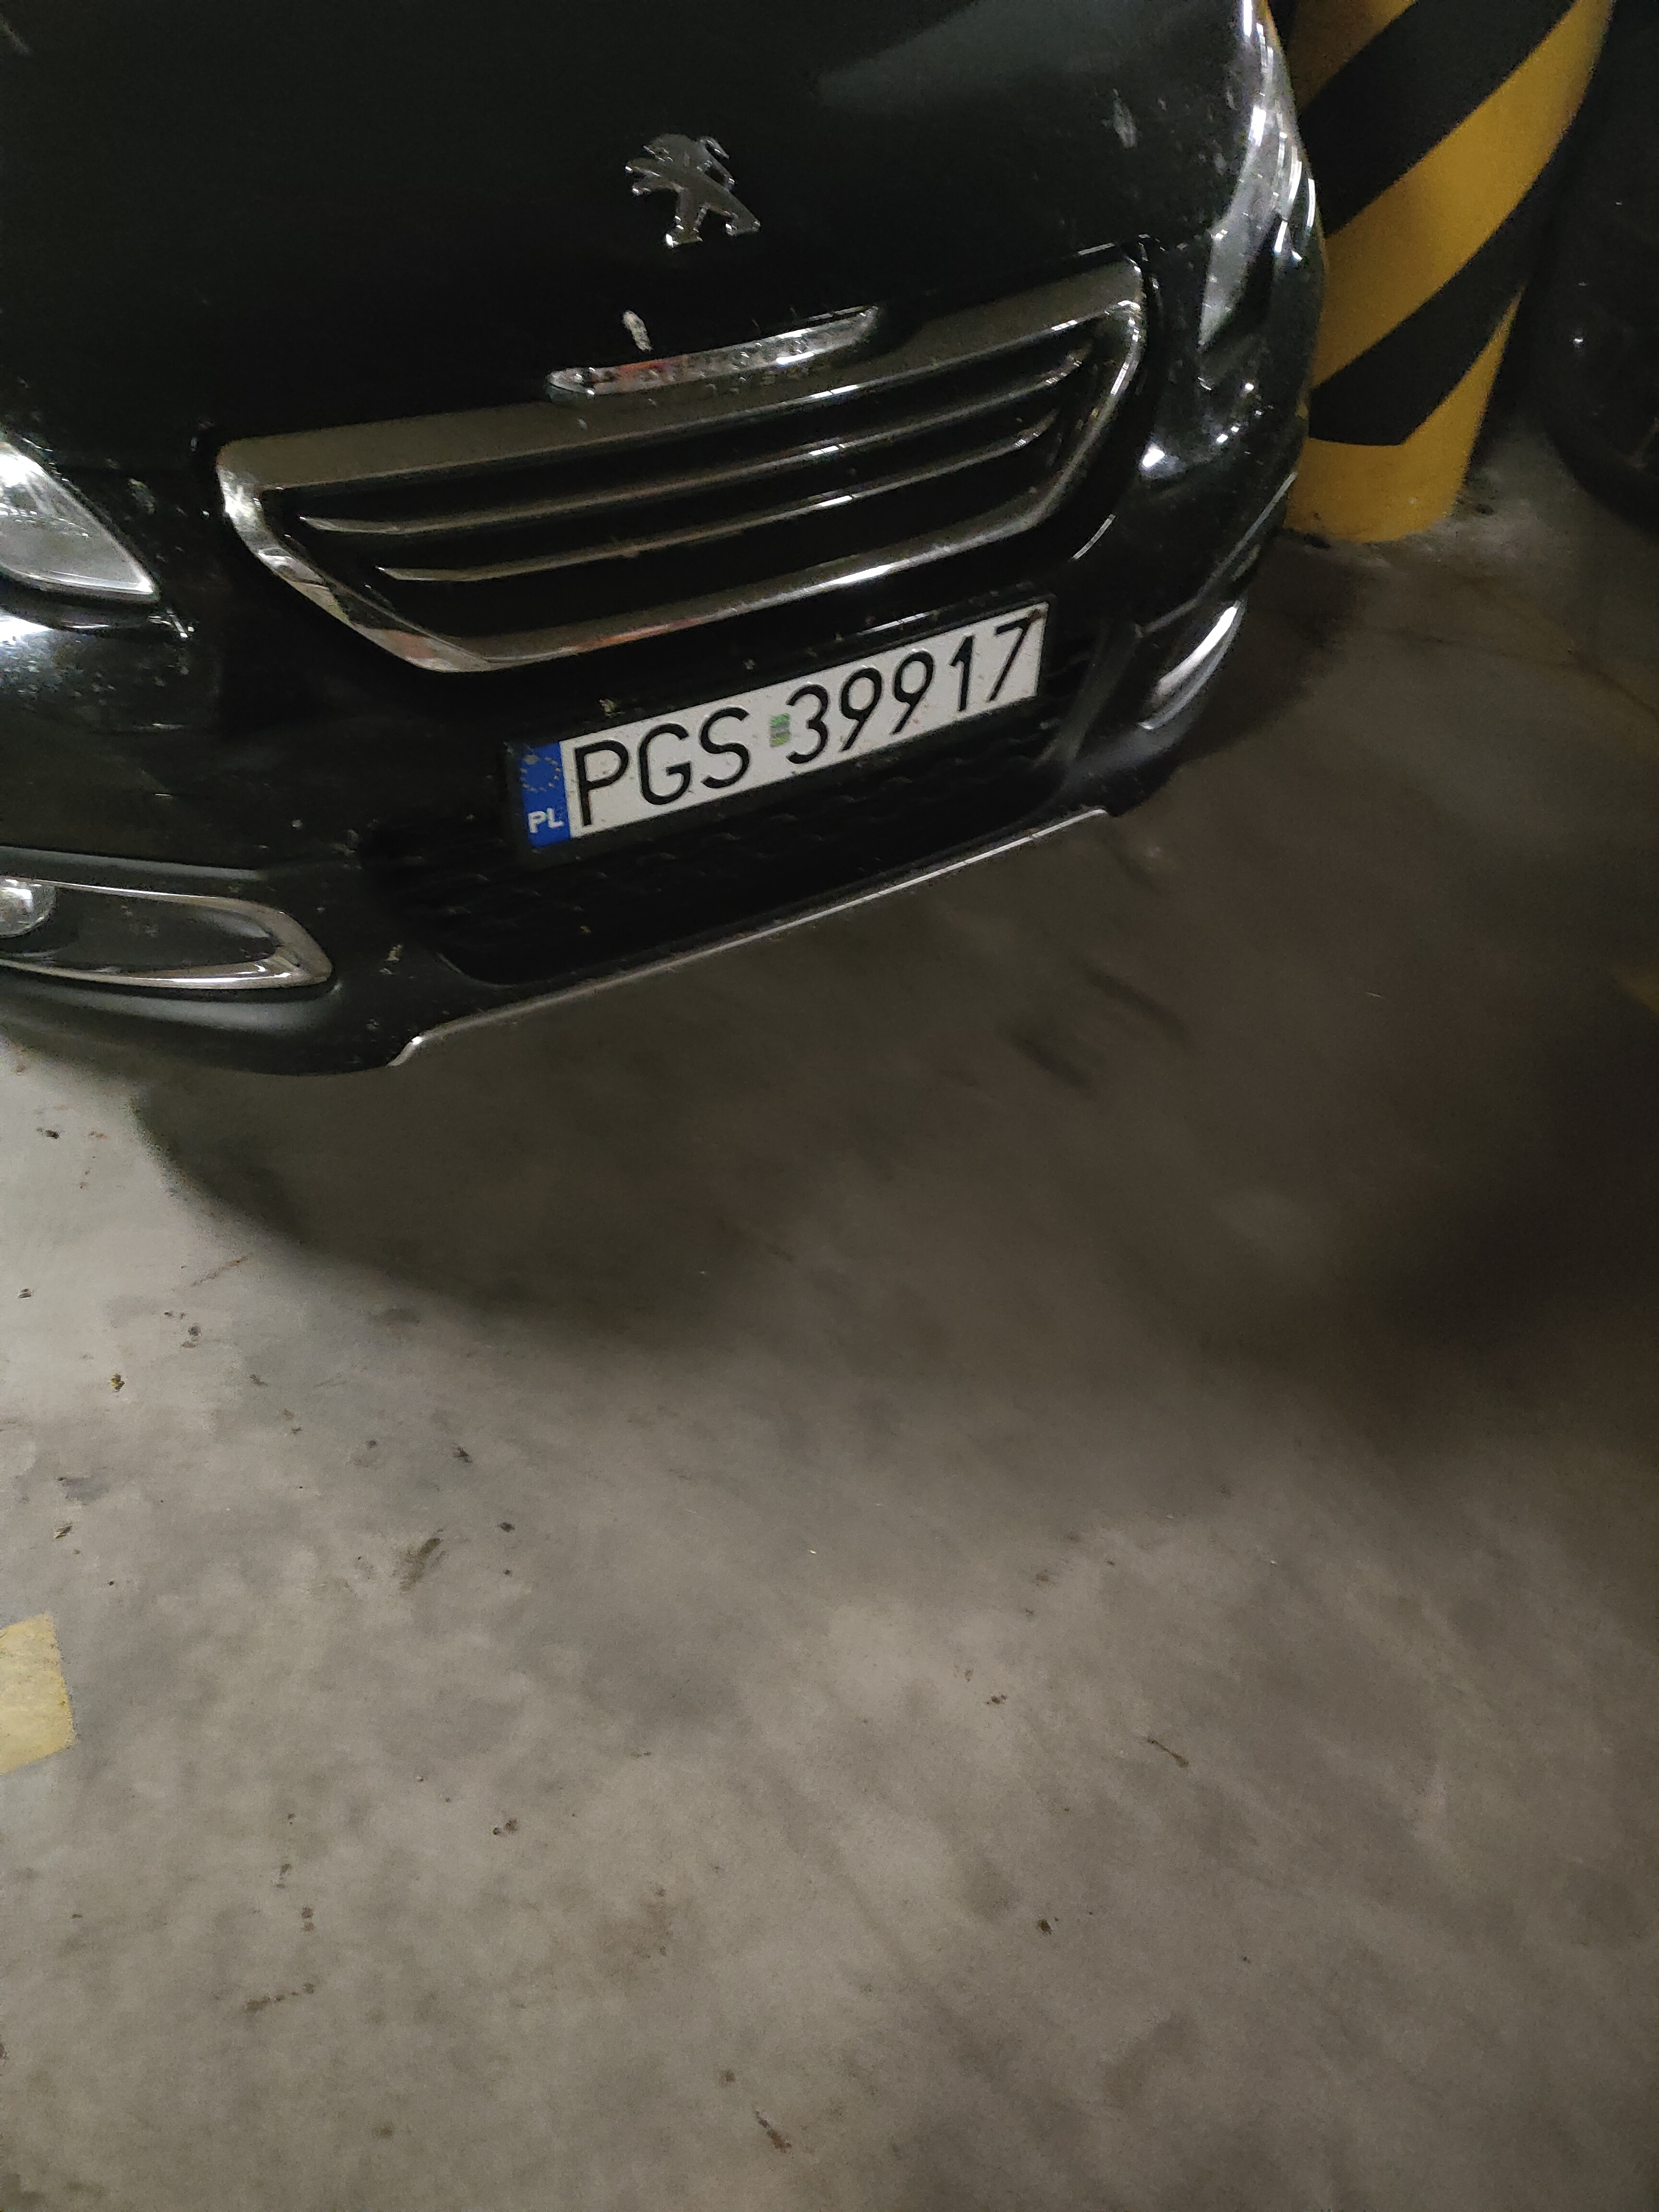number_plate: (513, 597, 1053, 868)
